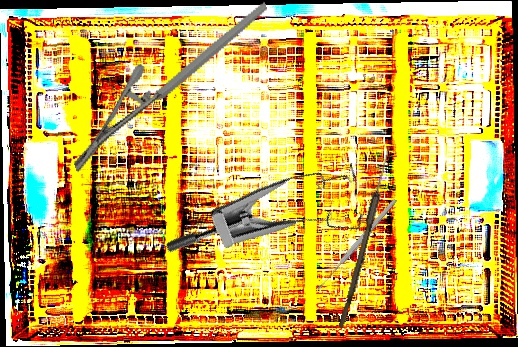Needle Holder: (43, 0, 299, 175)
Speculum: (161, 129, 386, 326)
Surgical Spoon: (338, 145, 393, 330), (314, 197, 399, 292)
